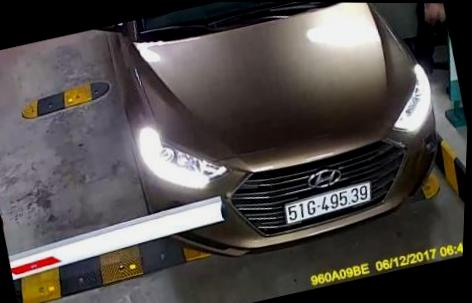License_Plate: (278, 167, 377, 233)
